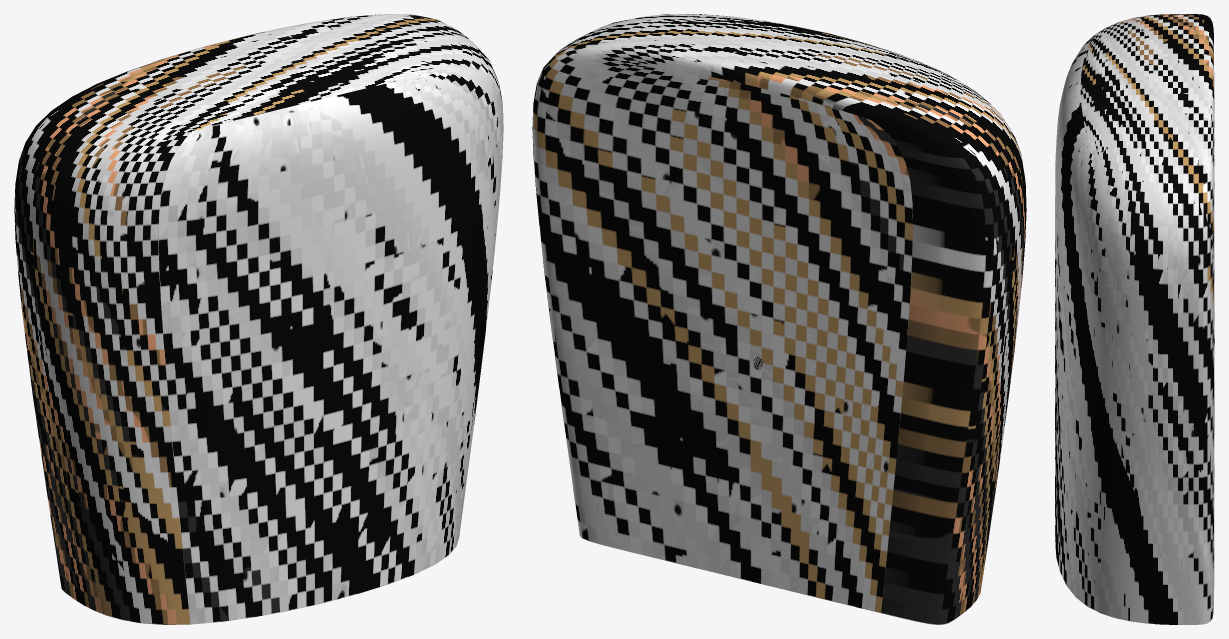
Rendered from bbs-rs16-wheel-rim.glb.
3 renders of one model, left to right at view 1: azimuth 30°, elevation 25°; view 2: azimuth 150°, elevation 25°; view 3: azimuth 270°, elevation 25°, orthographic. The views are drawn at different scales.
Parts seen in each view (by area): view 1: mesh_4; view 2: mesh_4; view 3: mesh_4.
Boxes of the visible parts, bbox=[...] form: mesh_4: bbox=[14, 14, 503, 624]; mesh_4: bbox=[532, 14, 1026, 624]; mesh_4: bbox=[1055, 14, 1214, 624].
Bounding box in the file's own units: 0.5538 × 0.58 × 0.1799.
1 material, 1 textured.
